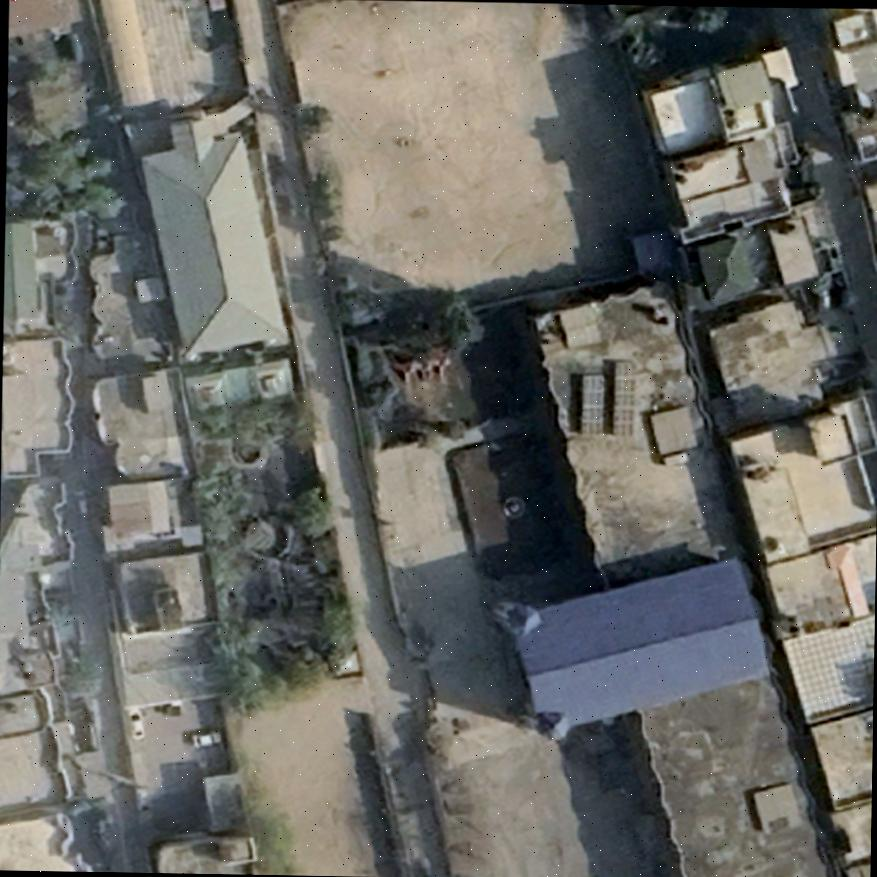Solarpanel: (608, 358, 638, 438), (575, 368, 606, 437)
